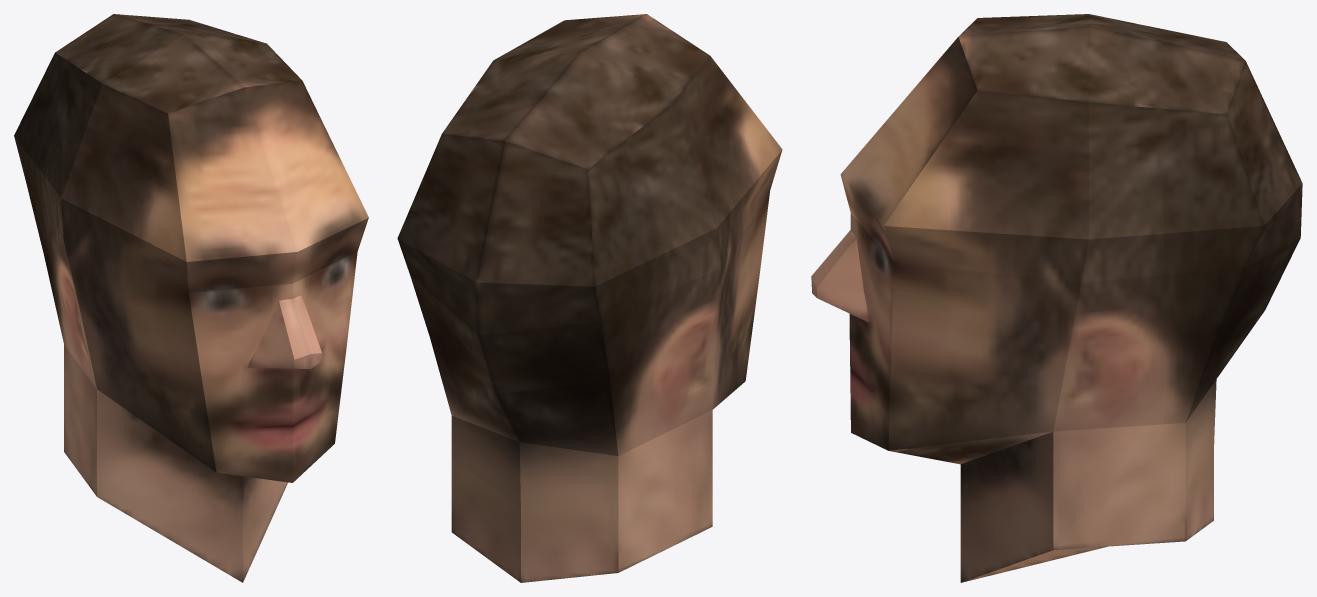
Rendered from headtest1.fbx.
3 renders of one model, left to right at view 1: azimuth 30°, elevation 25°; view 2: azimuth 150°, elevation 25°; view 3: azimuth 270°, elevation 25°, orthographic. The views are drawn at different scales.
Visible parts, largest first — view 1: head.001; view 2: head.001; view 3: head.001.
Boxes of the visible parts, bbox=[...] form: head.001: bbox=[14, 14, 368, 582]; head.001: bbox=[397, 14, 782, 582]; head.001: bbox=[811, 14, 1302, 582].
Size of the model in its own units: 26.95 by 52.22 by 41.84.
